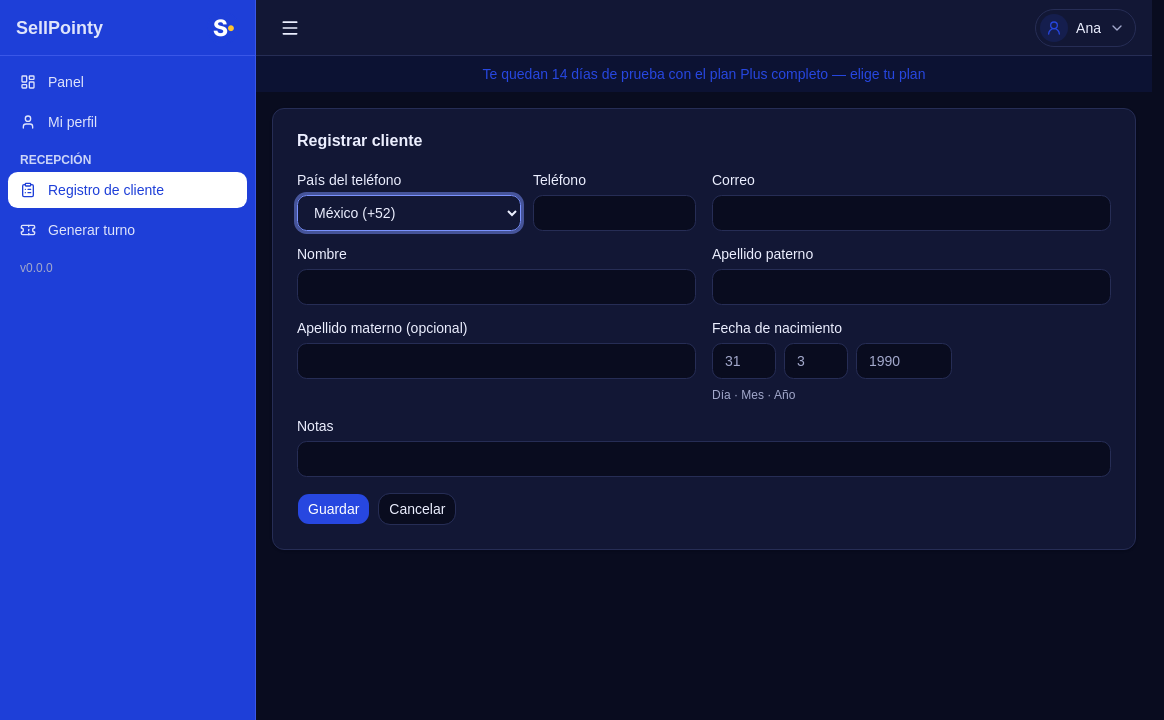
Scenario: aviso de contacto repetido › al salir del teléfono en un alta también avisa
In the field labelled "Teléfono": [614, 213] box 533,195 -> 696,231, type "5512345678"
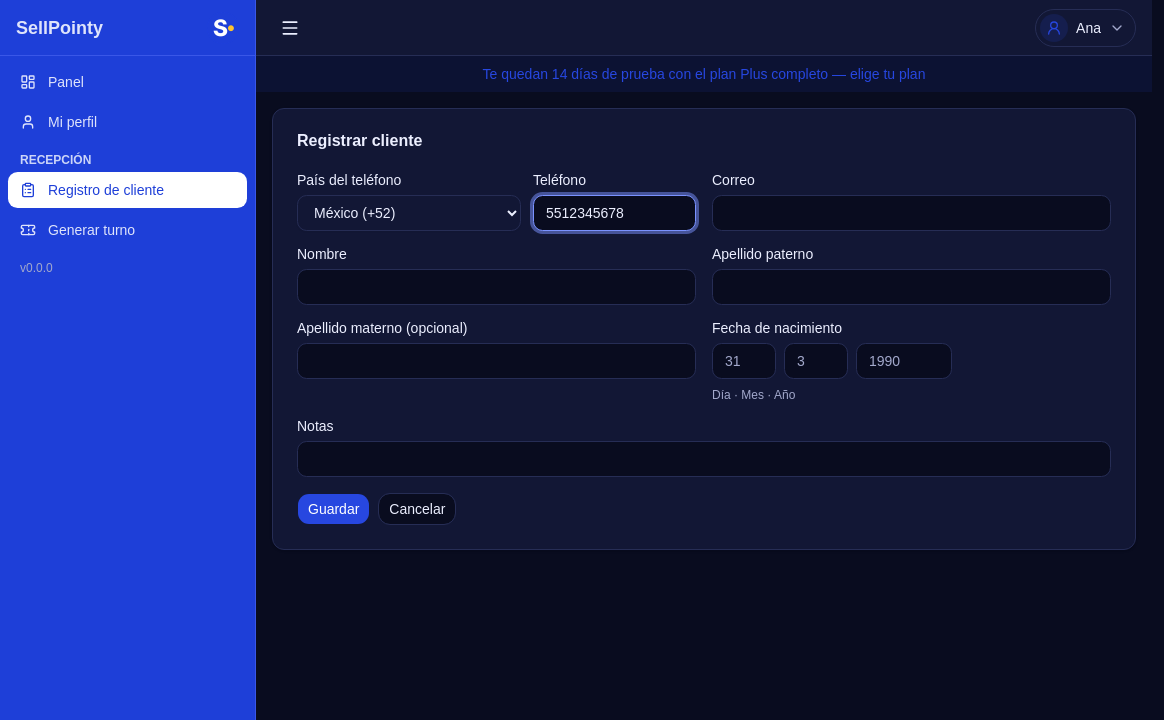
Press Tab
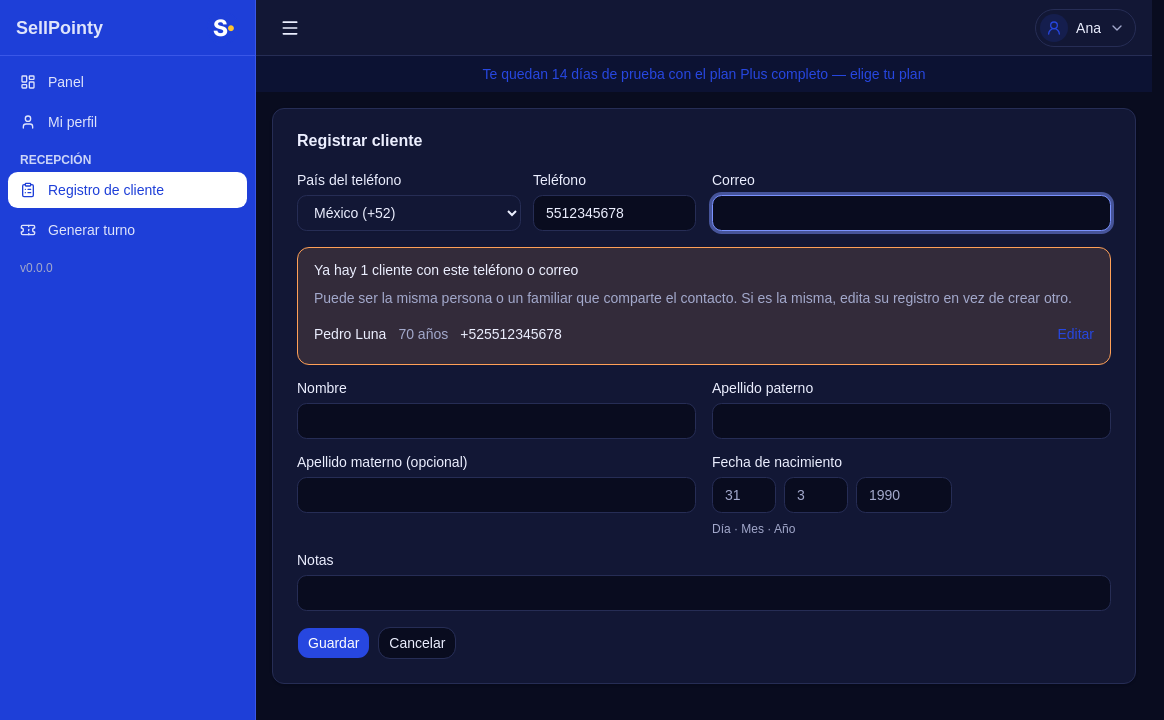
Expected: the text "Pedro Luna" is shown, 314,324 -> 386,344
Expected: the text "+525512345678" is shown, 460,324 -> 562,344
